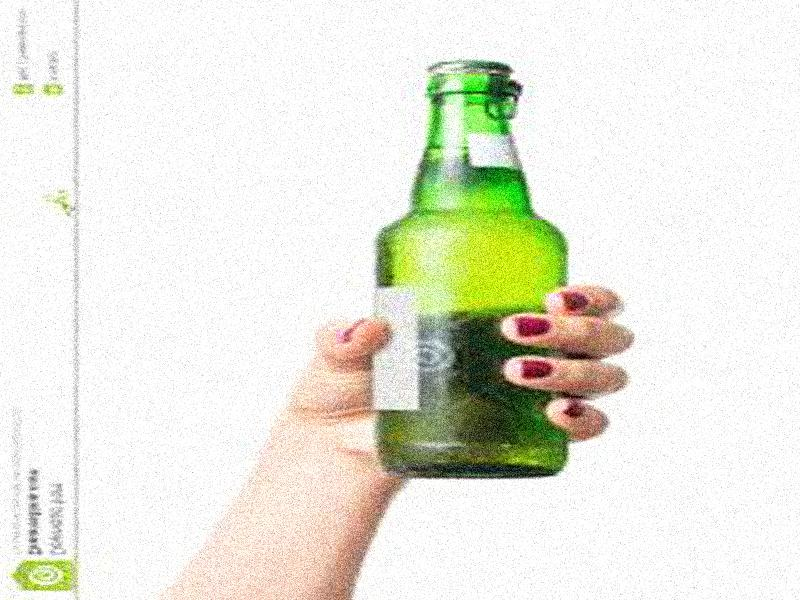Beer: (368, 60, 579, 476)
